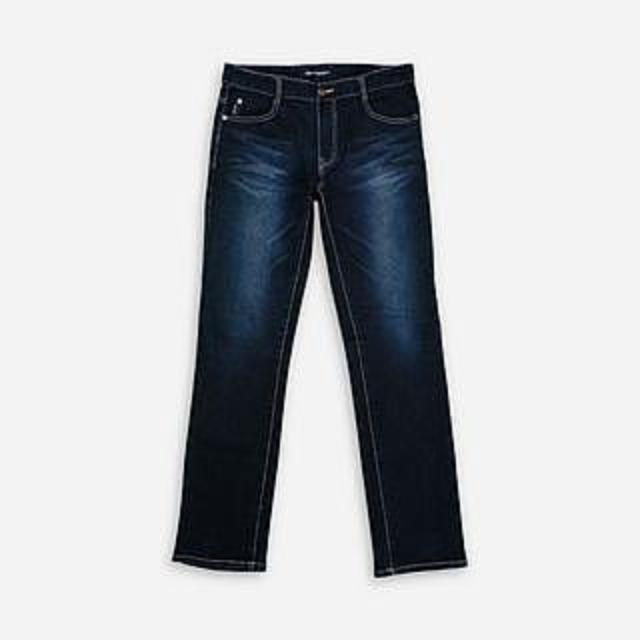TROUSER: (156, 50, 496, 580)
